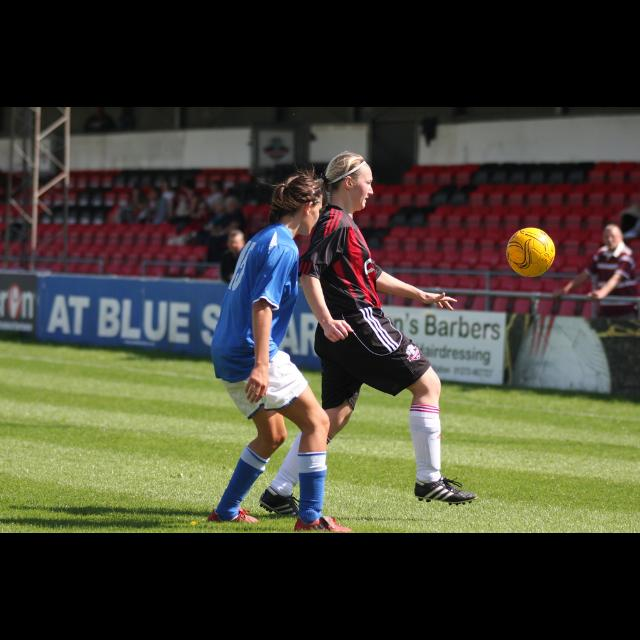Football: (506, 227, 554, 276)
